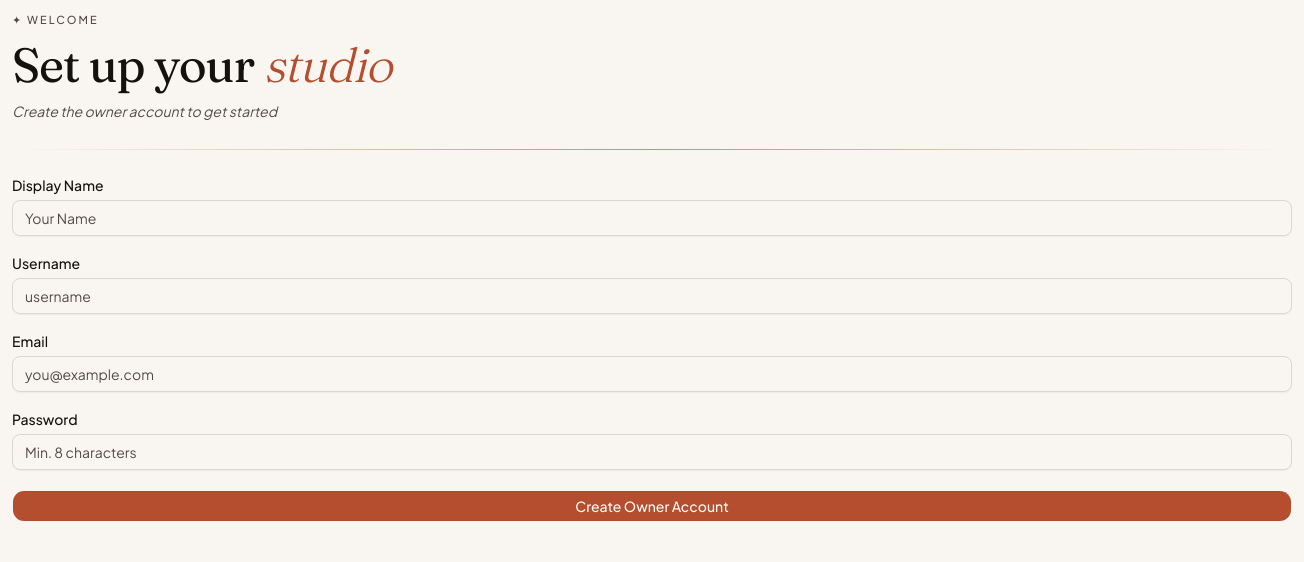
Test case: SetupForm › shows field error when username has invalid characters
The image size is (1304, 562).
Type "Owner User" into the field labelled "Display Name" at (652, 218), box [12,200,1292,236]
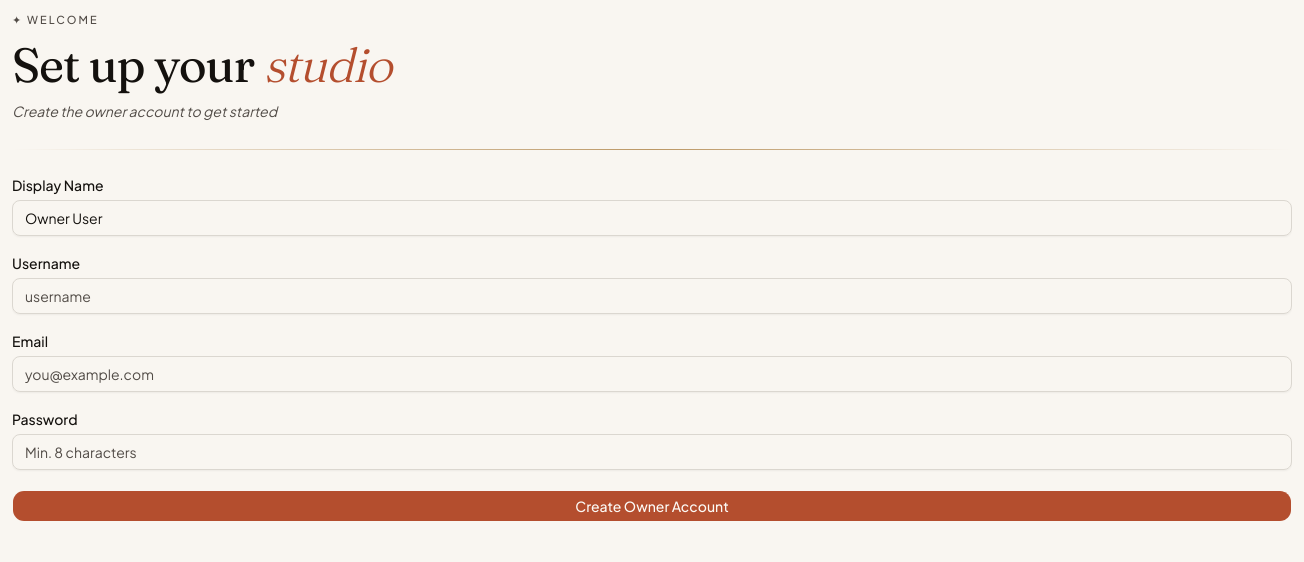
Type "invalid-user!" into the field labelled "Username" at (652, 296), box [12,278,1292,314]
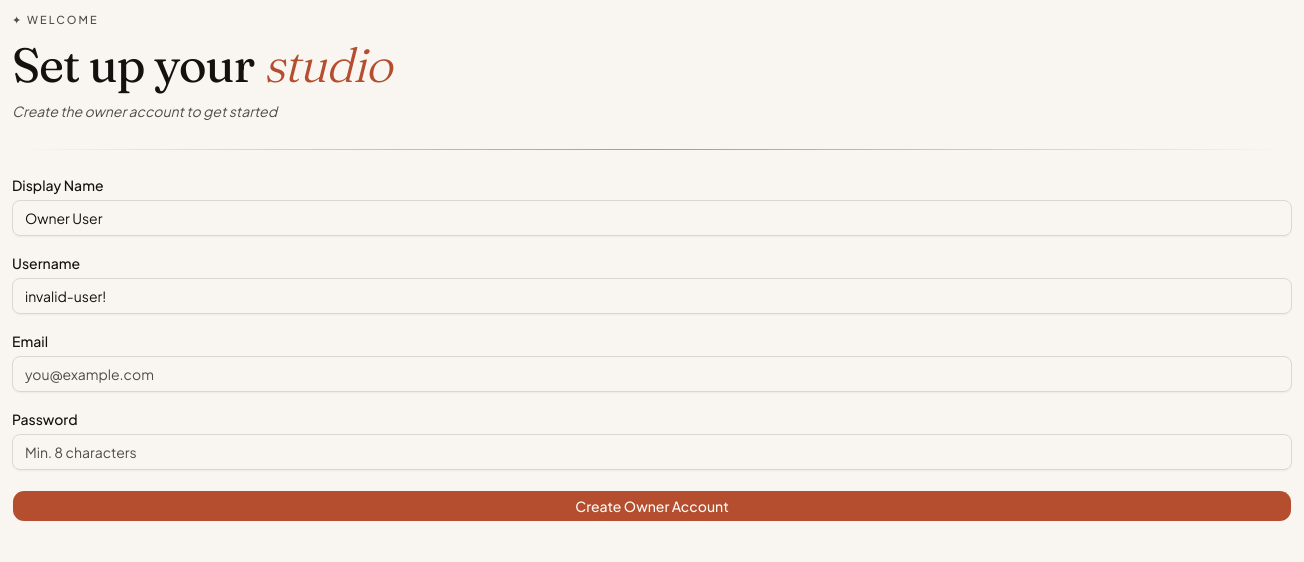
Type "owner@test.com" into the field labelled "Email" at (652, 374), box [12,356,1292,392]
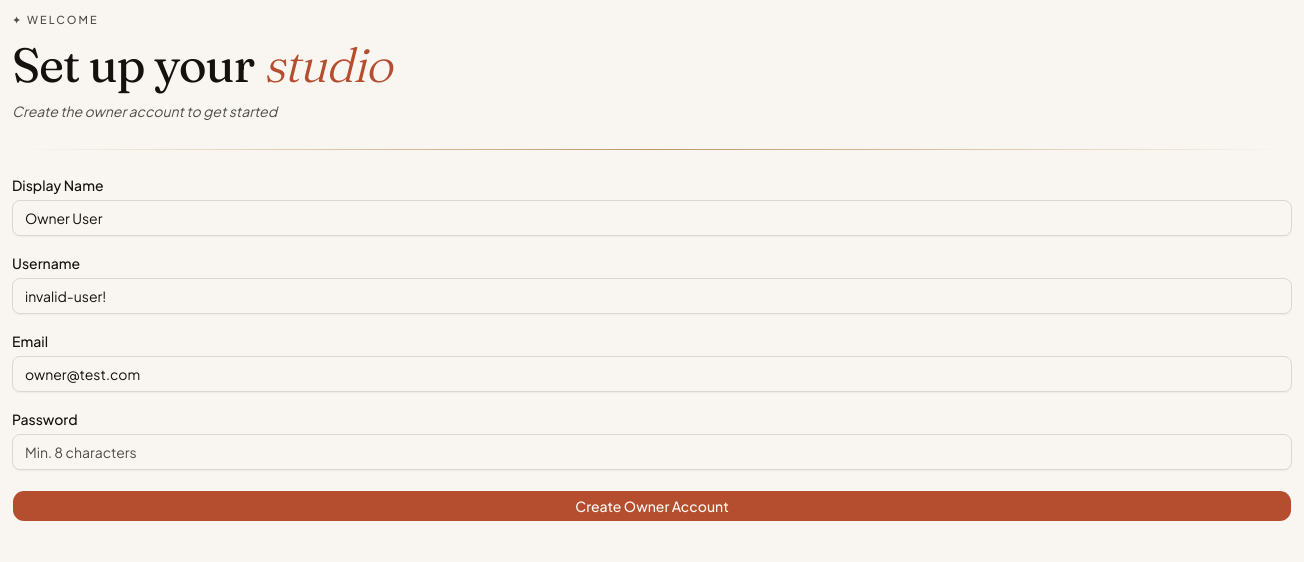
Type "password123" into the password field labelled "Password" at (652, 452), box [12,434,1292,470]
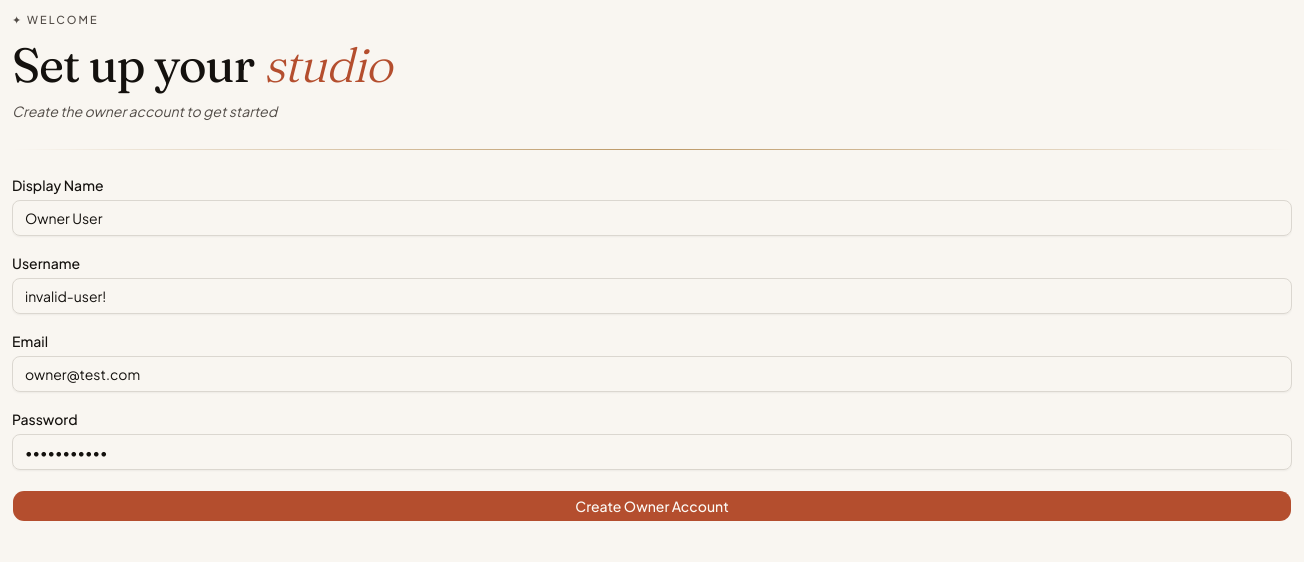
Click the button "Create Owner Account" at (652, 506), box [12,490,1292,522]
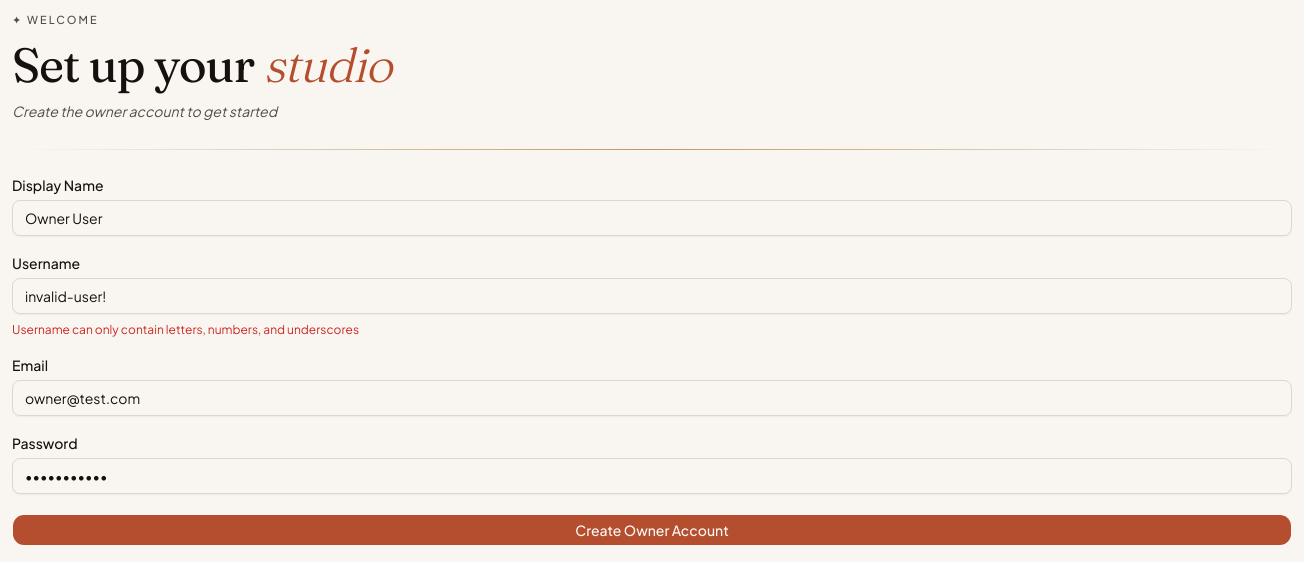
Check: the text "Username can only contain letters, numbers, and underscores" is shown, box [12,322,359,336]
